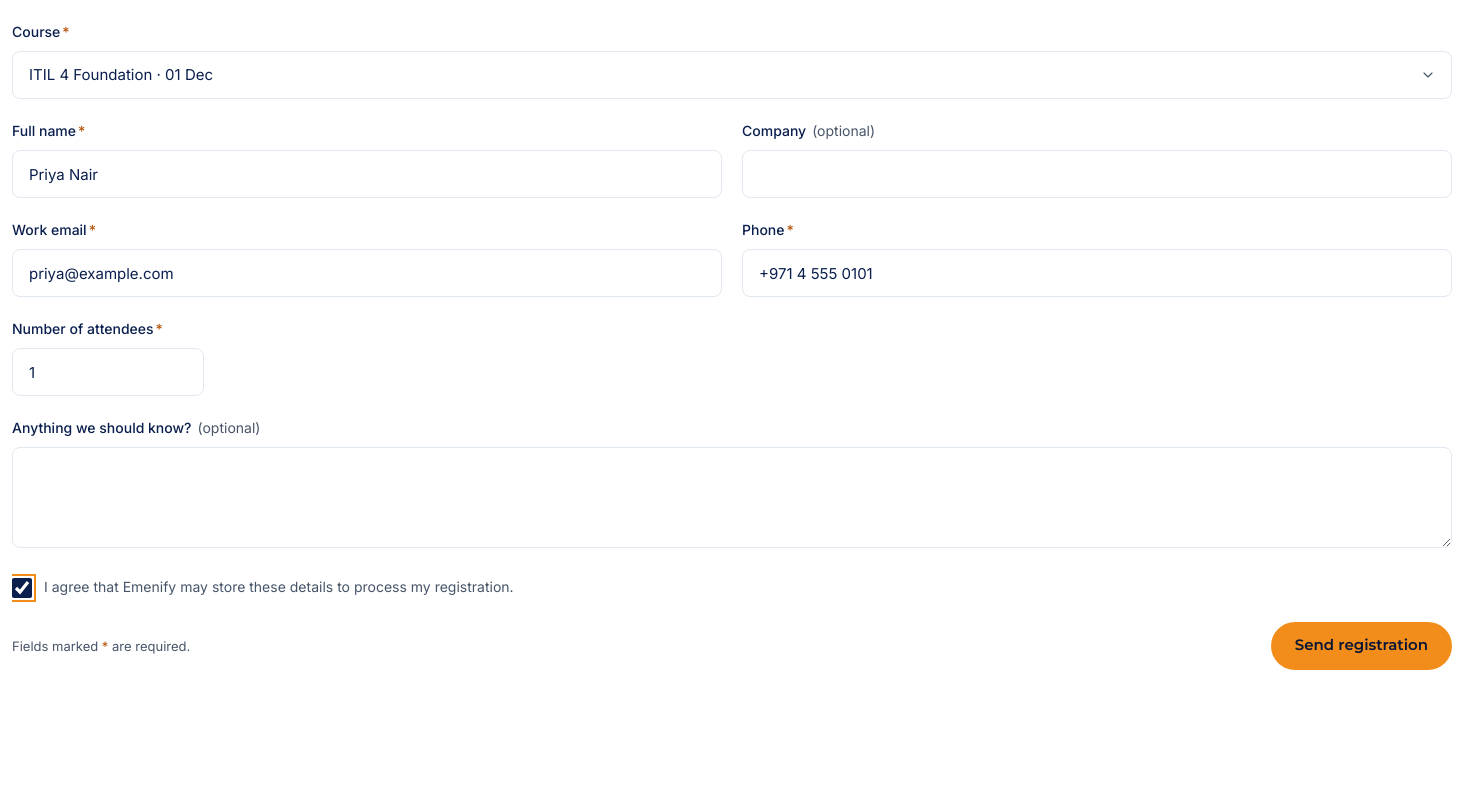
Test: TrainingEnquiryForm › does not send when the honeypot is filled
Earlier steps of the test are not shown.
What coordinates should you click on to do the following:
click the button "Send registration"
I would click on:
 (1361, 646)
Its box is x1=1271 y1=622 x2=1452 y2=670.
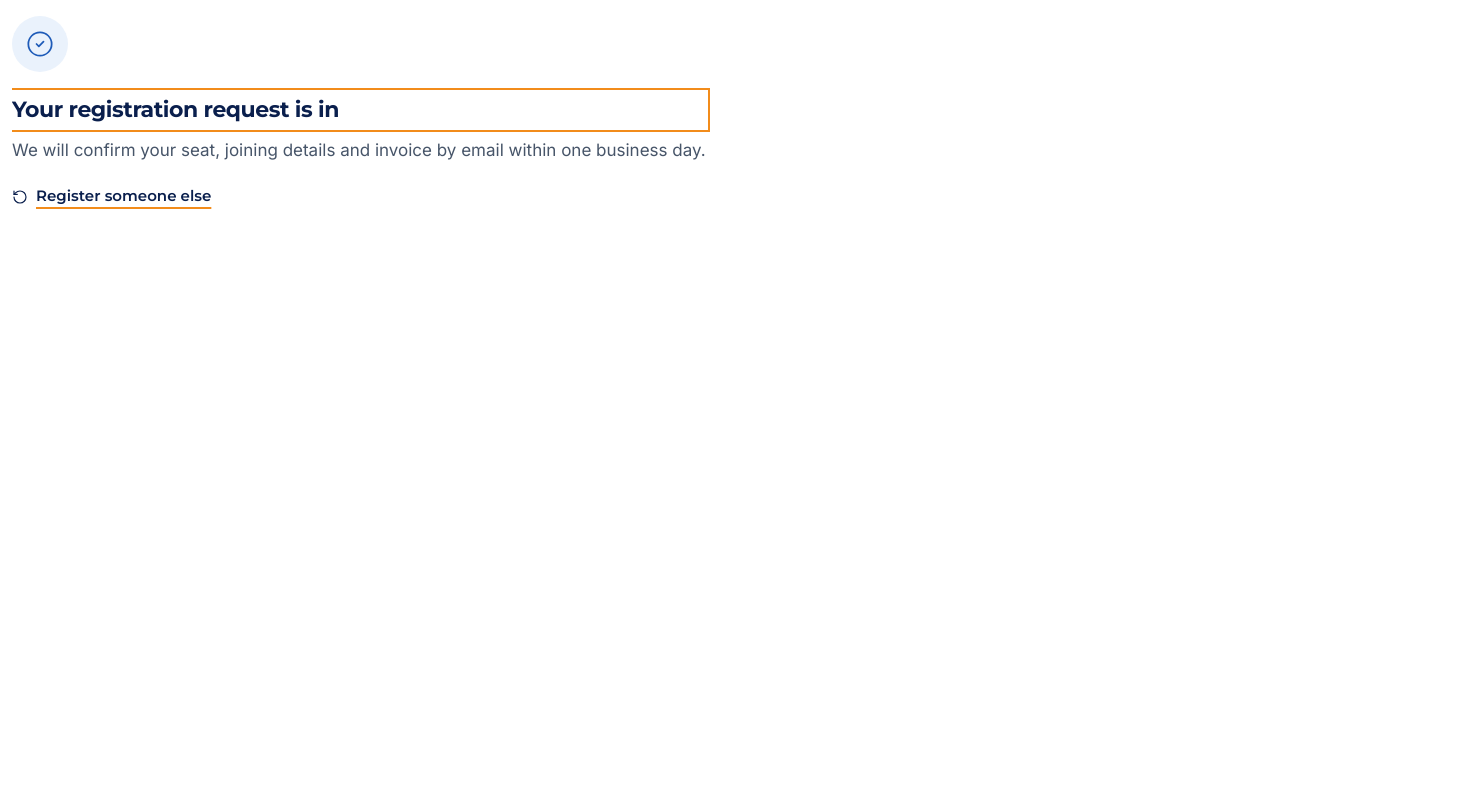
Result: the heading "Your registration request is in" is shown at x1=12 y1=92 x2=706 y2=128
